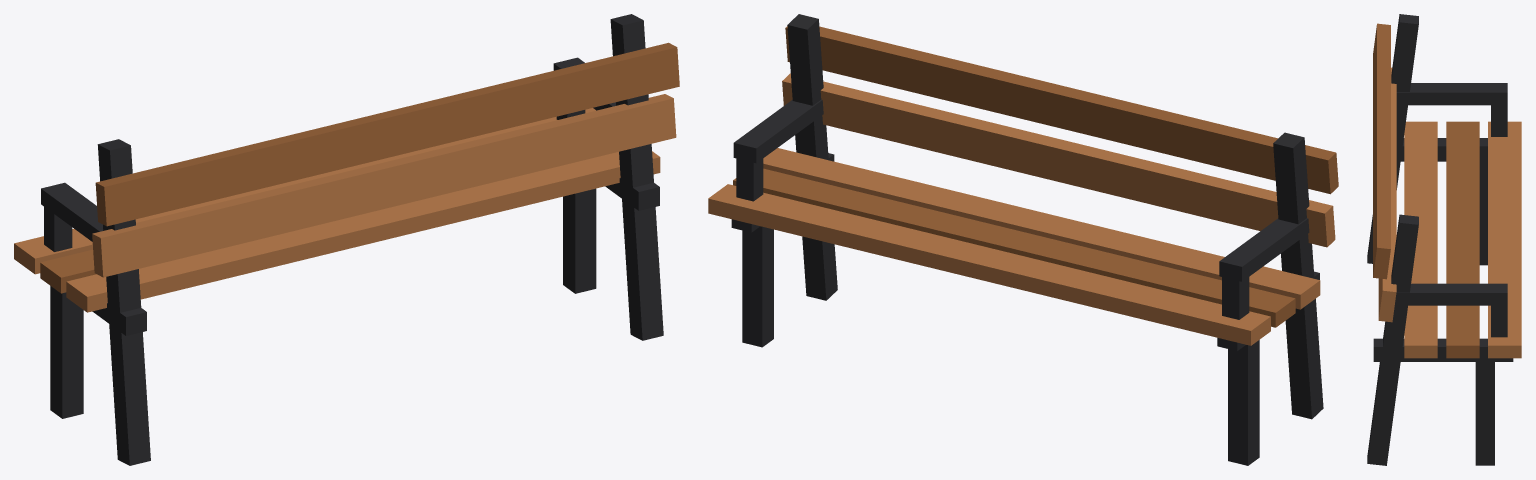
Rendered from park-bench.glb.
3 views of the same model, side by side, from view 1: azimuth 30°, elevation 25°; view 2: azimuth 150°, elevation 25°; view 3: azimuth 270°, elevation 25° (orthographic). The views are drawn at different scales.
Visible parts, largest first — view 1: park-bench; view 2: park-bench; view 3: park-bench.
Part boxes in pixels (bbox=[...]): park-bench: bbox=[14, 14, 679, 465]; park-bench: bbox=[708, 14, 1338, 465]; park-bench: bbox=[1367, 14, 1521, 465].
Bounding box in the file's own units: 1.9 × 0.9615 × 0.5522.
